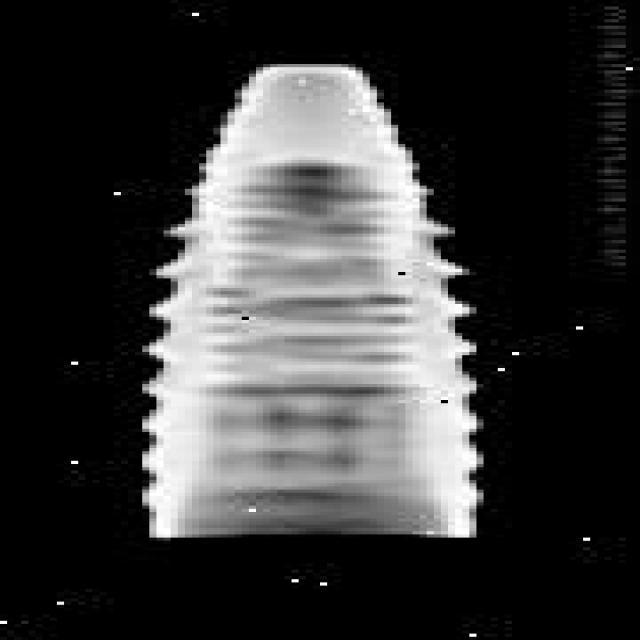Titan Implant Implant: (142, 61, 476, 538)
